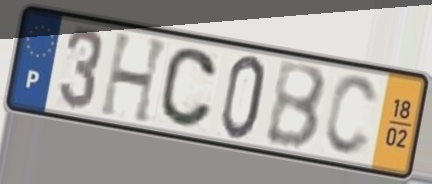0: (217, 52, 269, 142)
3: (57, 24, 107, 114)
B: (263, 61, 330, 153)
C: (157, 45, 220, 132), (321, 72, 381, 160)
H: (96, 31, 173, 128)
